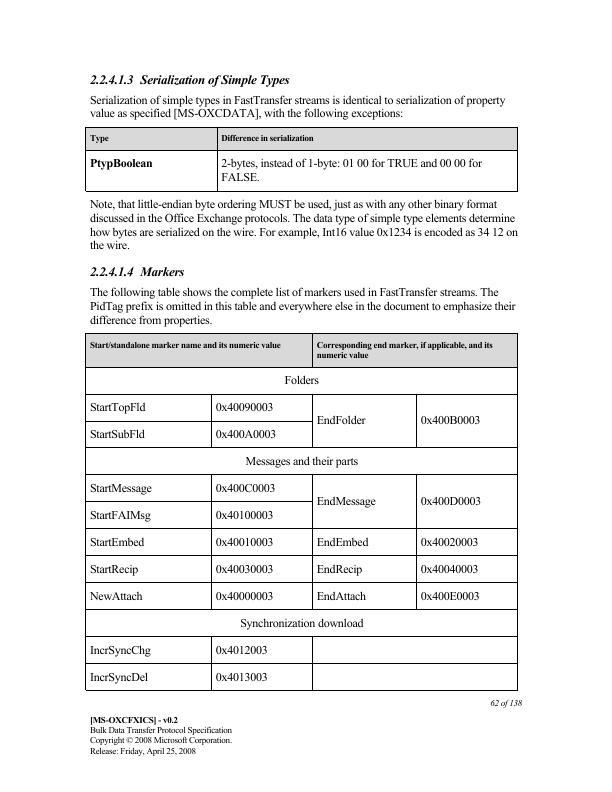table: (85, 333, 520, 691), (83, 127, 520, 194)
text: (87, 198, 523, 250), (88, 284, 517, 327), (86, 94, 505, 121), (85, 710, 234, 758), (86, 73, 292, 89), (88, 261, 187, 280), (489, 696, 525, 710)
